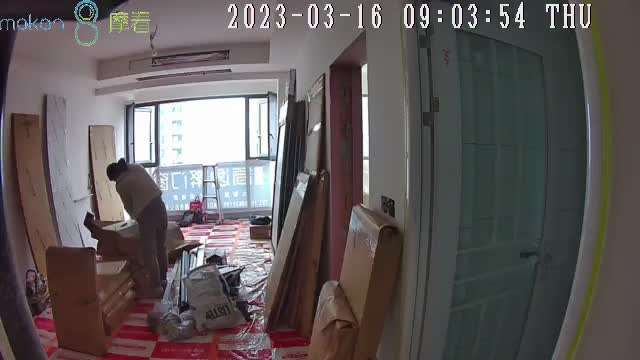people: (106, 158, 166, 292)
window: (127, 95, 277, 211)
